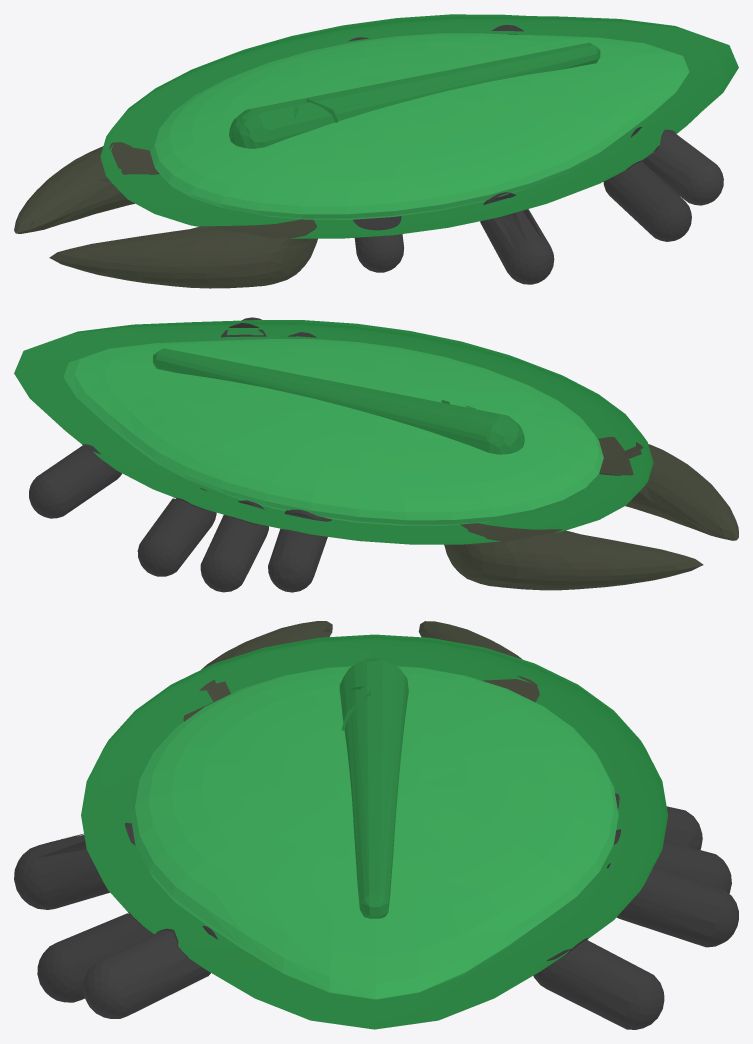
The model's file is leafbug.glb.
3 views of the same model, one above another, from view 1: azimuth 30°, elevation 25°; view 2: azimuth 150°, elevation 25°; view 3: azimuth 270°, elevation 25° (orthographic). The views are drawn at different scales.
Visible parts, largest first — view 1: Sphere, Sphere.008, Sphere.001, Sphere.009, Icosphere.008, Icosphere.009, Icosphere.007, Icosphere.010; view 2: Sphere, Sphere.009, Sphere.001, Sphere.008, Icosphere.006, Icosphere.004, Icosphere.003, Icosphere.011; view 3: Sphere, Sphere.001, Icosphere.006, Icosphere.007, Icosphere.004, Icosphere.009, Icosphere.008, Sphere.008, Icosphere.003, Sphere.009, Icosphere.011.
Boxes of the visible parts, x1,y1,x2,y2 form: Sphere: [100, 14, 738, 238]; Sphere.008: [49, 219, 317, 288]; Sphere.001: [229, 42, 600, 148]; Sphere.009: [14, 142, 159, 233]; Icosphere.008: [603, 160, 691, 241]; Icosphere.009: [480, 209, 554, 284]; Icosphere.007: [641, 129, 723, 205]; Icosphere.010: [353, 216, 403, 272]; Sphere: [14, 320, 653, 544]; Sphere.009: [444, 523, 703, 590]; Sphere.001: [153, 348, 524, 454]; Sphere.008: [598, 436, 738, 540]; Icosphere.006: [29, 444, 121, 518]; Icosphere.004: [137, 497, 216, 576]; Icosphere.003: [200, 515, 268, 592]; Icosphere.011: [268, 528, 327, 592]; Sphere: [81, 634, 667, 1029]; Sphere.001: [339, 658, 408, 918]; Icosphere.006: [533, 938, 664, 1029]; Icosphere.007: [83, 928, 210, 1018]; Icosphere.004: [616, 865, 738, 947]; Icosphere.009: [14, 833, 109, 909]; Icosphere.008: [37, 911, 153, 1002]; Sphere.008: [183, 621, 332, 721]; Icosphere.003: [654, 840, 731, 893]; Sphere.009: [418, 621, 539, 702]; Icosphere.011: [664, 806, 702, 849].
Size of the model in its own units: 4.38 by 0.7174 by 3.02.
